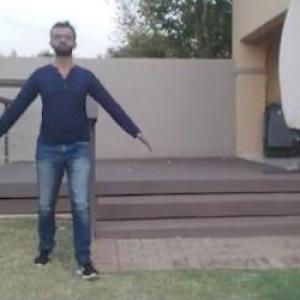land: (0, 25, 155, 274)
